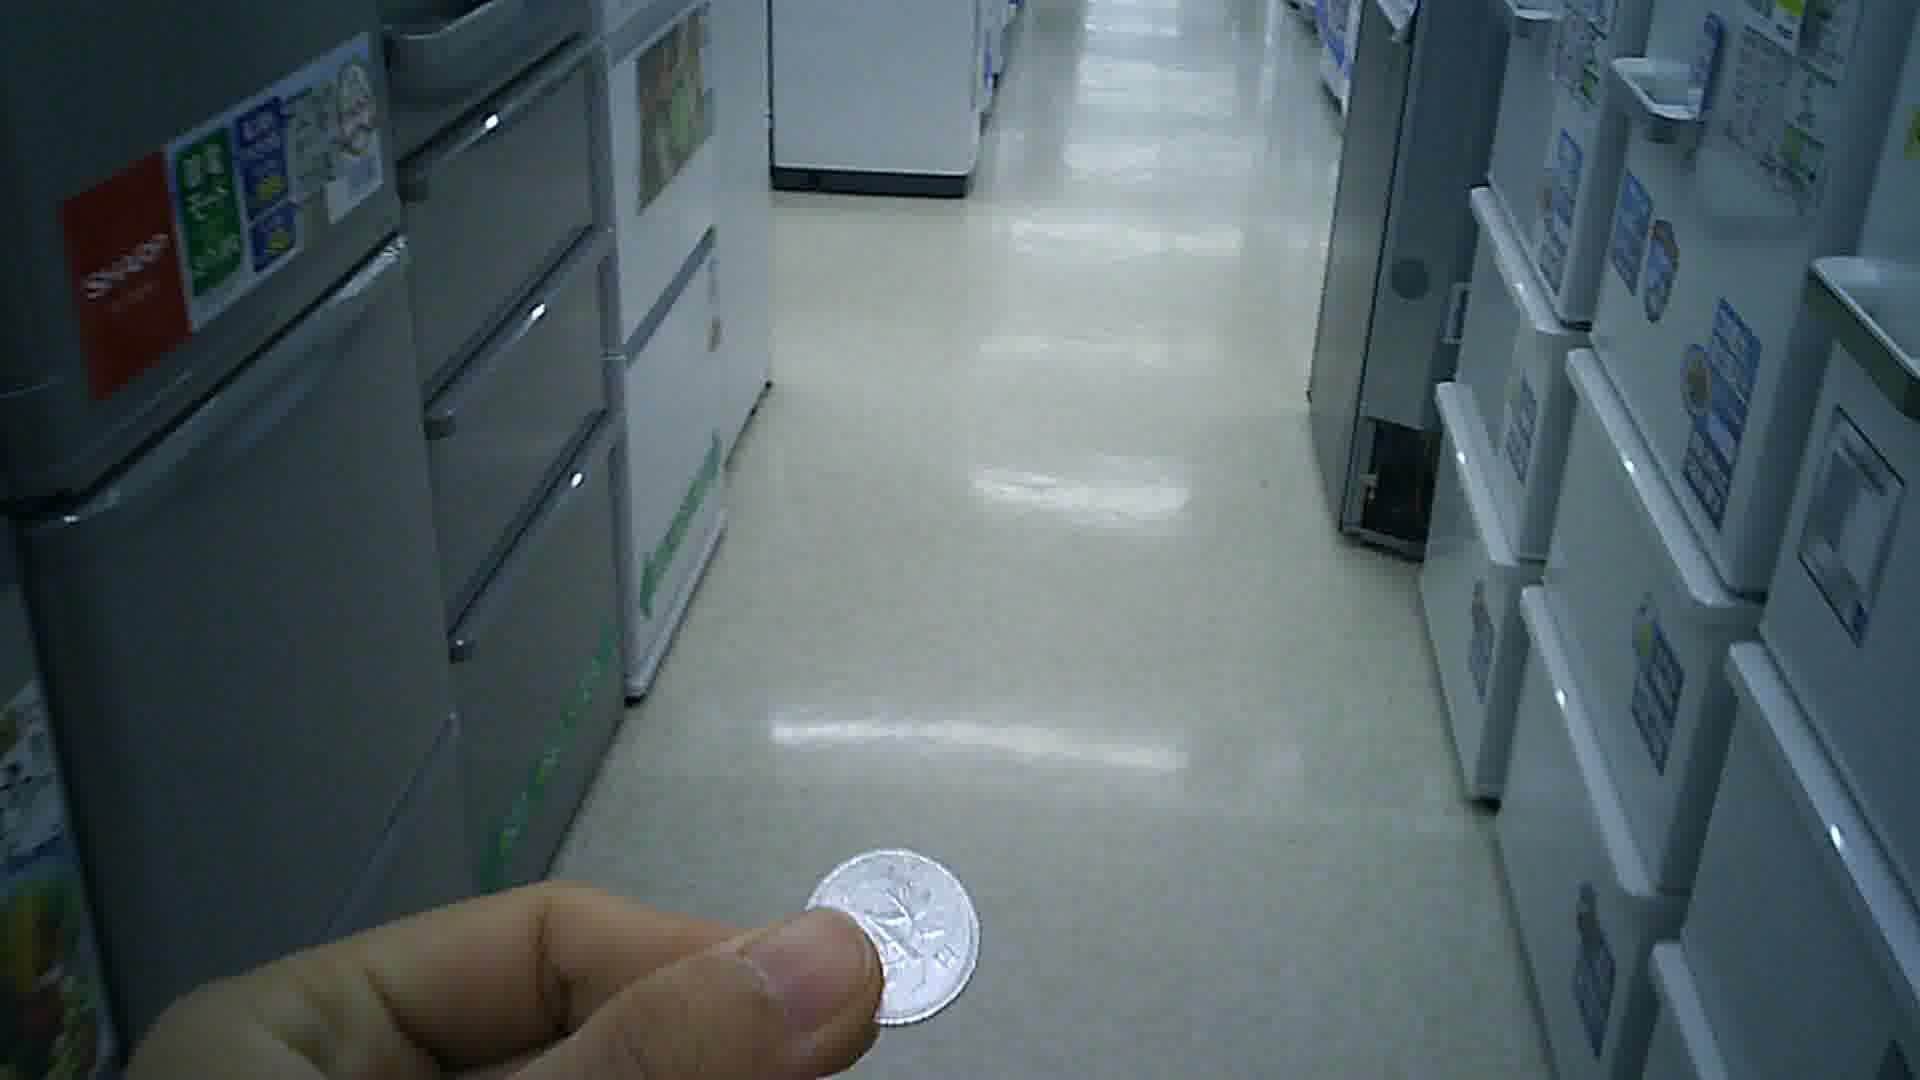1 Yen: (810, 844, 992, 1030)
